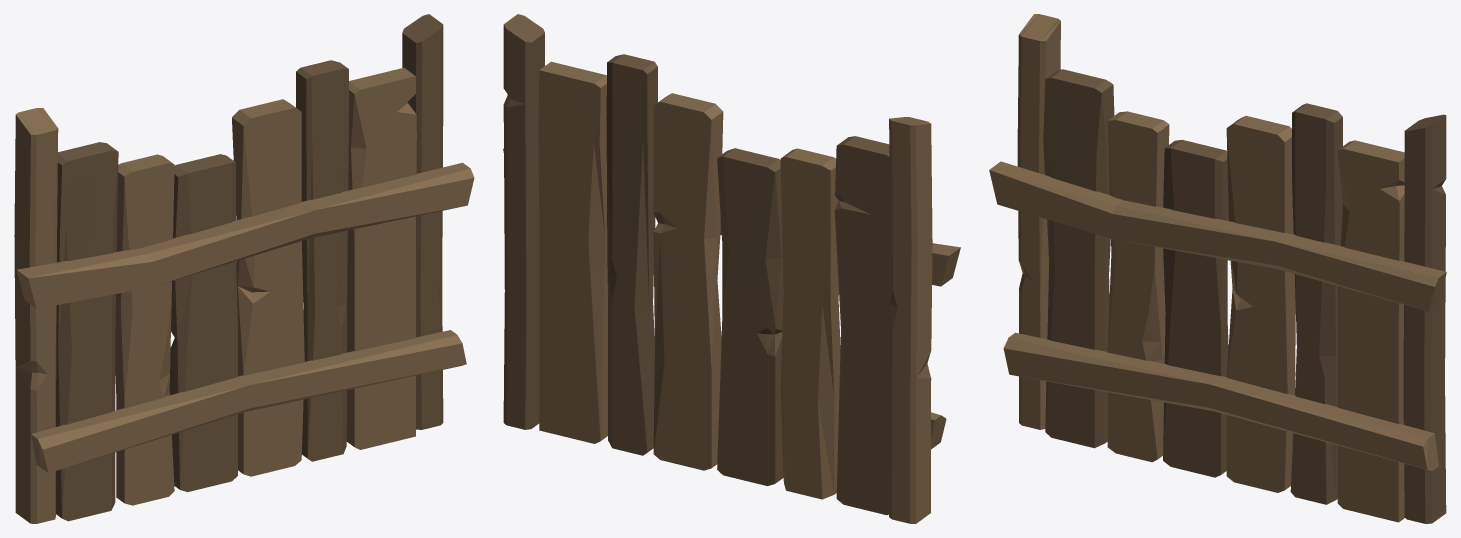
File: Valla_01.glb
3 views of the same model, side by side, from view 1: azimuth 30°, elevation 25°; view 2: azimuth 150°, elevation 25°; view 3: azimuth 330°, elevation 25° (orthographic).
Parts seen in each view (by area): view 1: SM_Prop_Fence_Wood_01; view 2: SM_Prop_Fence_Wood_01; view 3: SM_Prop_Fence_Wood_01.
Boxes of the visible parts, x1,y1,x2,y2 form: SM_Prop_Fence_Wood_01: (14, 14, 474, 523); SM_Prop_Fence_Wood_01: (503, 14, 960, 523); SM_Prop_Fence_Wood_01: (989, 14, 1446, 523).
Bounding box in the file's own units: 1.96 × 1.69 × 0.2285.
Materials: 1 (1 with a texture image).
